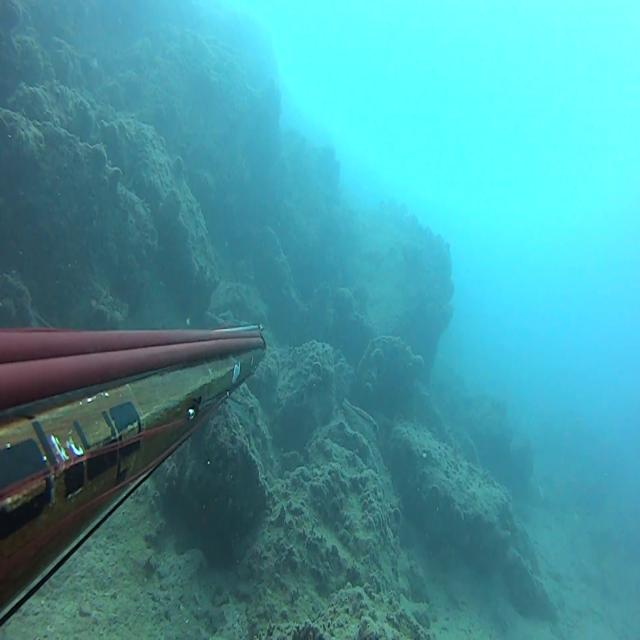Balon Baligi: (342, 398, 380, 439)
